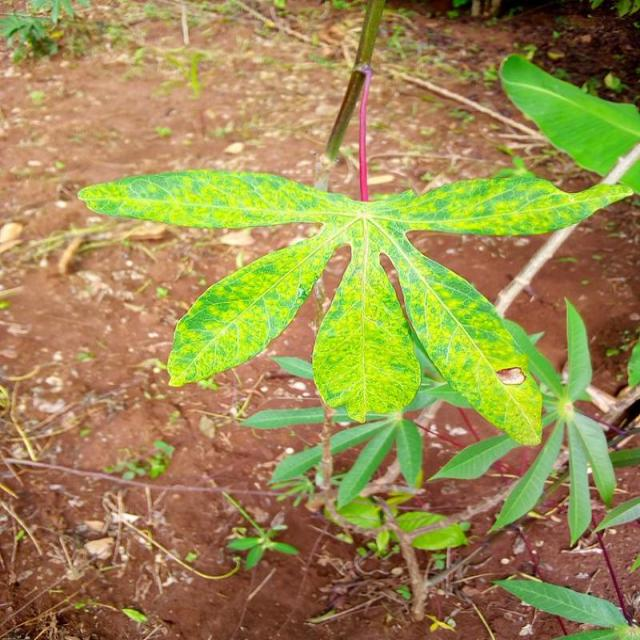cassava leaf: (77, 62, 638, 448), (498, 51, 639, 194)
